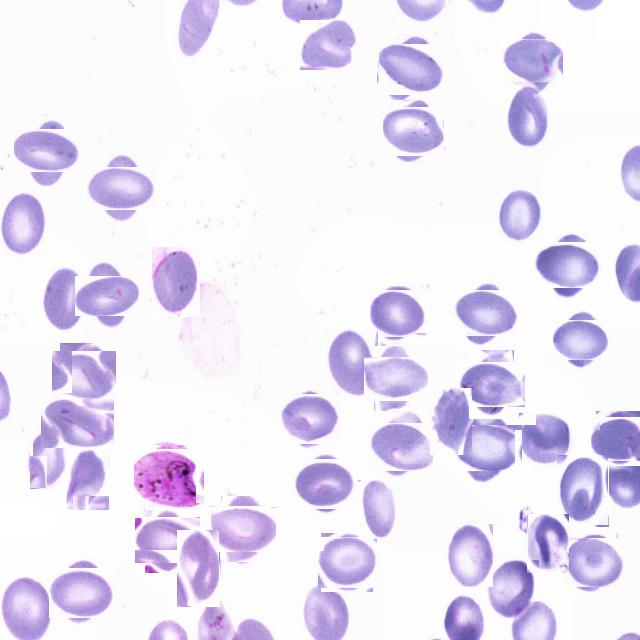difficult: (136, 447, 202, 513)
red blood cell: (46, 392, 108, 454), (557, 454, 609, 526), (380, 40, 440, 99), (326, 329, 378, 397), (55, 346, 114, 404), (485, 556, 536, 622), (297, 454, 355, 512), (540, 236, 598, 294), (92, 159, 150, 217), (458, 418, 516, 476), (152, 247, 200, 317), (177, 530, 220, 607), (52, 564, 110, 621), (372, 418, 430, 475), (463, 356, 520, 413), (456, 285, 513, 341), (216, 501, 272, 557), (140, 512, 196, 568), (20, 122, 76, 178), (565, 534, 621, 590), (519, 413, 575, 468), (319, 535, 375, 590), (1, 192, 47, 258), (386, 104, 442, 158), (369, 351, 423, 406), (505, 34, 559, 88), (284, 392, 338, 446), (506, 82, 548, 151), (447, 524, 493, 587), (43, 266, 84, 336), (66, 446, 110, 511), (430, 388, 472, 455), (80, 270, 134, 322), (300, 20, 356, 70), (372, 288, 424, 340), (527, 514, 570, 574), (30, 428, 70, 489), (557, 316, 605, 364), (594, 414, 640, 464), (498, 190, 542, 242), (358, 480, 396, 539)
